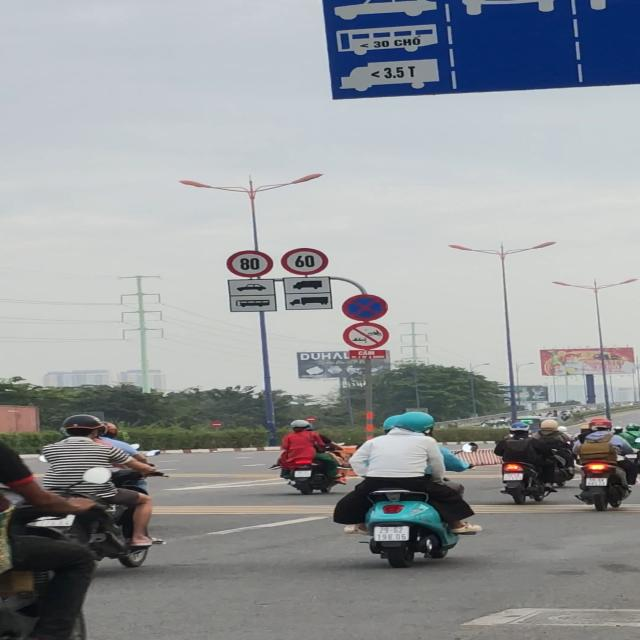Bien bao cam dung xe va do xe: (342, 293, 389, 322)
Bien bao toc do toi da cho phep: (224, 250, 276, 279), (281, 247, 331, 276)
